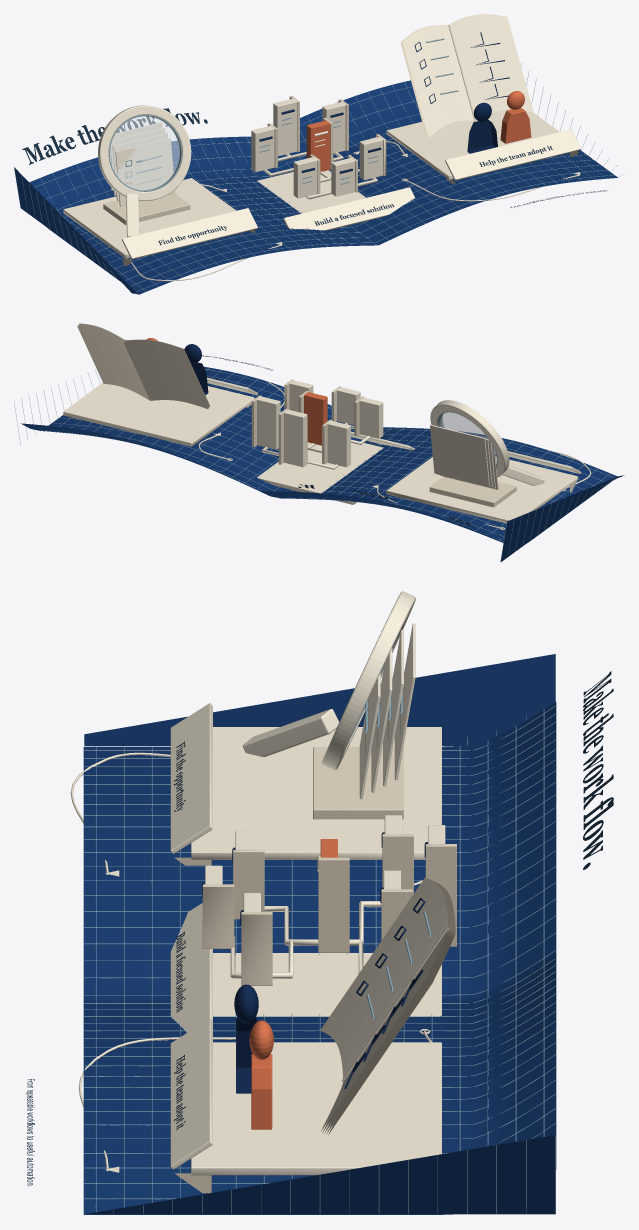
The model's file is services.glb.
The picture shows the model from 3 angles, top to bottom: view 1: azimuth 30°, elevation 25°; view 2: azimuth 150°, elevation 25°; view 3: azimuth 270°, elevation 25°; orthographic projection. The views are drawn at different scales.
Parts seen in each view (by area): view 1: Fold-out blueprint, Curved manual leaf, Folded magnifier handle, Fine horizontal drafting rule, Thin transparent magnifier lens, Folded platform 2, Folded front nameplate.002, Folded front nameplate, Paper magnifier rim, Folded front nameplate.001, Folded platform 1, Task card stand (+15 smaller); view 2: Fold-out blueprint, Folded magnifier handle, Folded platform 2, Curved manual leaf.001, Fine horizontal drafting rule, Folded platform 1, Node return fold, Task card stand, Paper magnifier rim, Folded workflow node 1, Folded workflow node 2, Folded workflow node 0 (+7 smaller); view 3: Fold-out blueprint, Folded magnifier handle, Folded platform 2, Fine horizontal drafting rule, Node return fold, Curved manual leaf, Folded platform 1, Folded front nameplate, Folded front nameplate.002, Task card stand, Folded front nameplate.001, Paper magnifier rim (+6 smaller).
Boxes of the visible parts, x1=… form: Fold-out blueprint: x1=14, y1=80, x2=617, y2=294; Curved manual leaf: x1=402, y1=14, x2=533, y2=137; Folded magnifier handle: x1=63, y1=122, x2=236, y2=258; Fine horizontal drafting rule: x1=14, y1=62, x2=624, y2=294; Thin transparent magnifier lens: x1=110, y1=116, x2=179, y2=189; Folded platform 2: x1=386, y1=110, x2=559, y2=179; Folded front nameplate.002: x1=445, y1=129, x2=581, y2=180; Folded front nameplate: x1=122, y1=208, x2=257, y2=259; Paper magnifier rim: x1=98, y1=105, x2=191, y2=200; Folded front nameplate.001: x1=283, y1=187, x2=414, y2=230; Folded platform 1: x1=257, y1=131, x2=377, y2=213; Task card stand: x1=103, y1=193, x2=190, y2=224; Fold-out blueprint: x1=21, y1=366, x2=623, y2=561; Folded magnifier handle: x1=386, y1=424, x2=577, y2=523; Folded platform 2: x1=63, y1=383, x2=254, y2=446; Curved manual leaf.001: x1=77, y1=324, x2=255, y2=408; Fine horizontal drafting rule: x1=14, y1=367, x2=624, y2=561; Folded platform 1: x1=257, y1=423, x2=383, y2=504; Node return fold: x1=251, y1=379, x2=364, y2=464; Task card stand: x1=429, y1=477, x2=516, y2=507; Paper magnifier rim: x1=430, y1=400, x2=509, y2=477; Folded workflow node 1: x1=284, y1=409, x2=307, y2=467; Folded workflow node 2: x1=257, y1=396, x2=280, y2=449; Folded workflow node 0: x1=327, y1=420, x2=350, y2=467; Fold-out blueprint: x1=83, y1=654, x2=556, y2=1214; Folded magnifier handle: x1=191, y1=623, x2=441, y2=859; Folded platform 2: x1=191, y1=1042, x2=441, y2=1175; Fine horizontal drafting rule: x1=84, y1=654, x2=555, y2=1215; Node return fold: x1=202, y1=834, x2=456, y2=985; Curved manual leaf: x1=320, y1=877, x2=448, y2=1131; Folded platform 1: x1=213, y1=856, x2=441, y2=1016; Folded front nameplate: x1=170, y1=703, x2=212, y2=853; Folded front nameplate.002: x1=170, y1=1018, x2=212, y2=1169; Task card stand: x1=313, y1=747, x2=403, y2=819; Folded front nameplate.001: x1=170, y1=903, x2=212, y2=1032; Paper magnifier rim: x1=322, y1=591, x2=415, y2=770.
Bounding box in the file's own units: 9.76 × 2.48 × 5.05.
